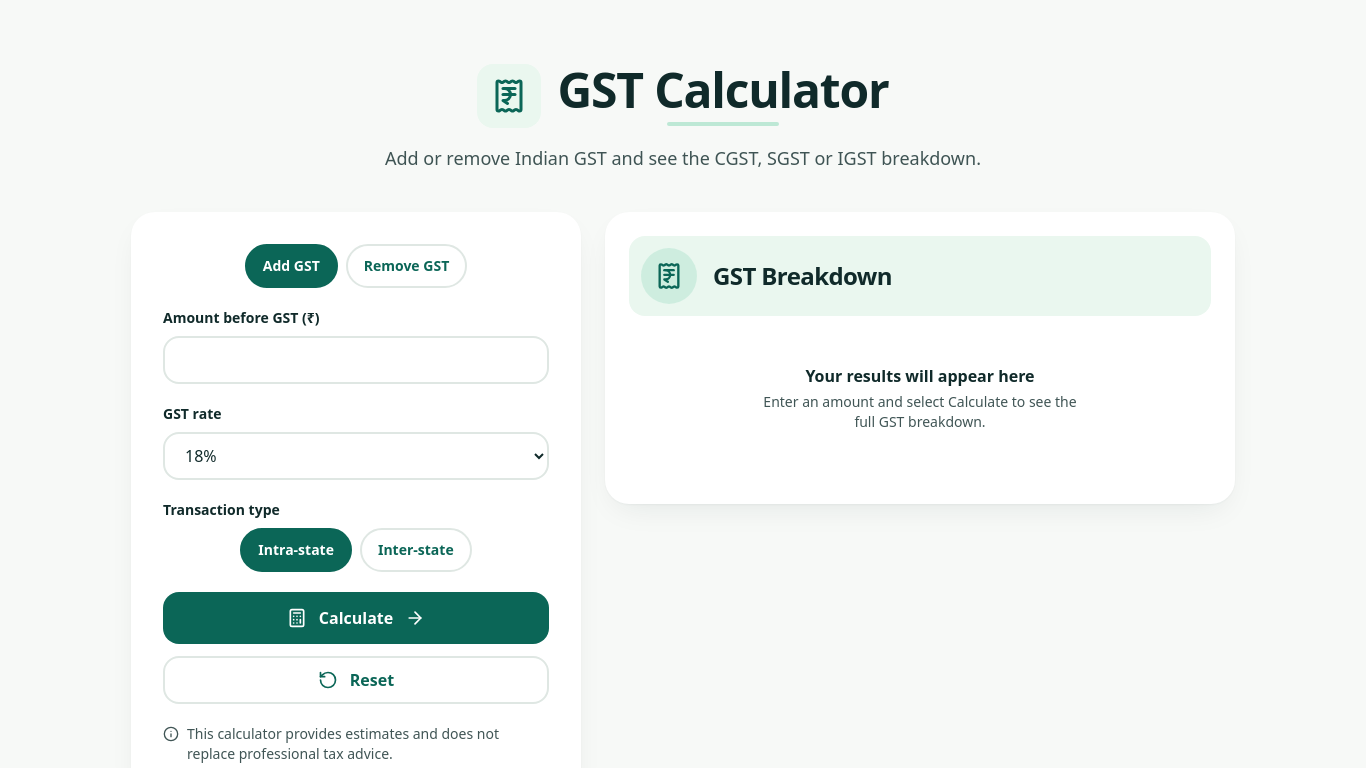
Test case: GST Calculator › shows errors and focuses the amount
The image size is (1366, 768).
Click the button "Calculate".
click(356, 618)  # box 163,592 -> 549,644
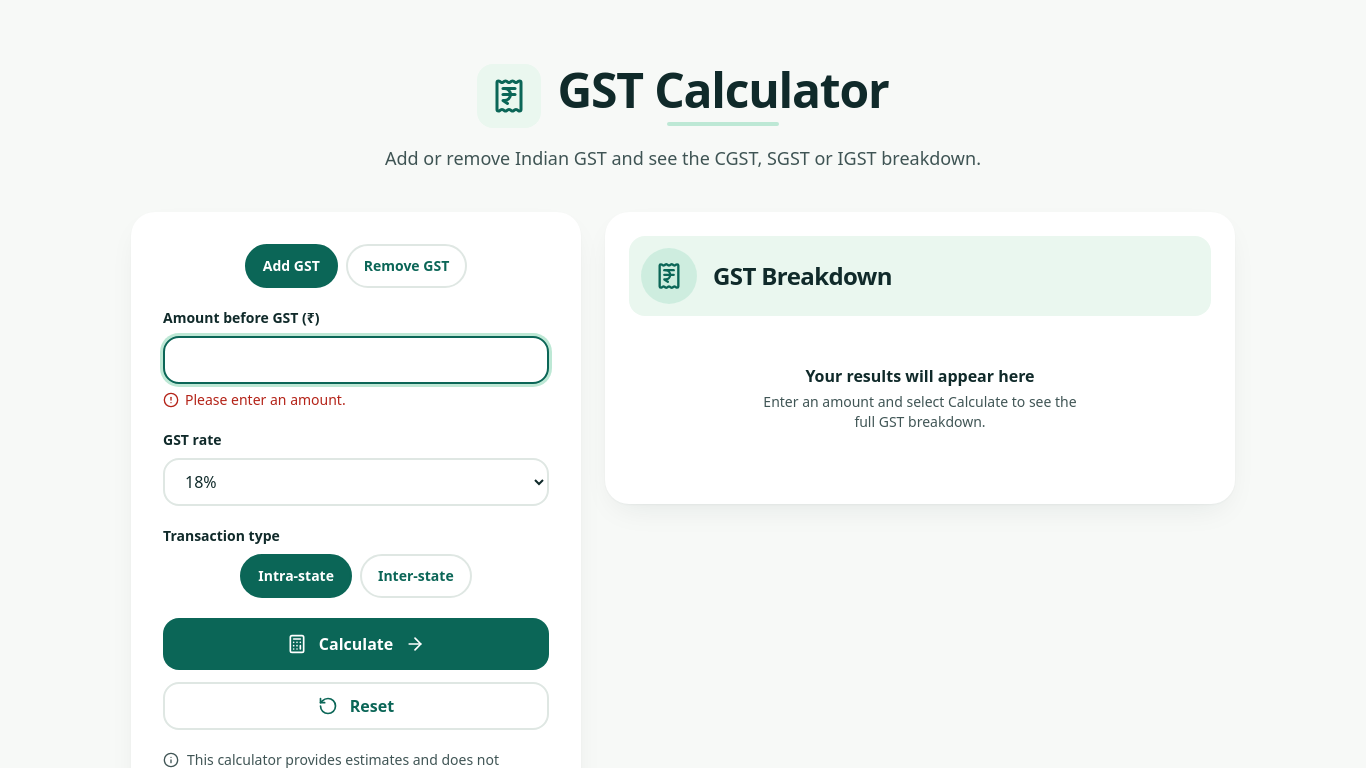
Check: the text "Please enter an amount." is shown, box 163,390 -> 346,409
Type "-5" into the field labelled "Amount before GST (₹)".
click(356, 360); type("-5")  # box 163,336 -> 549,384
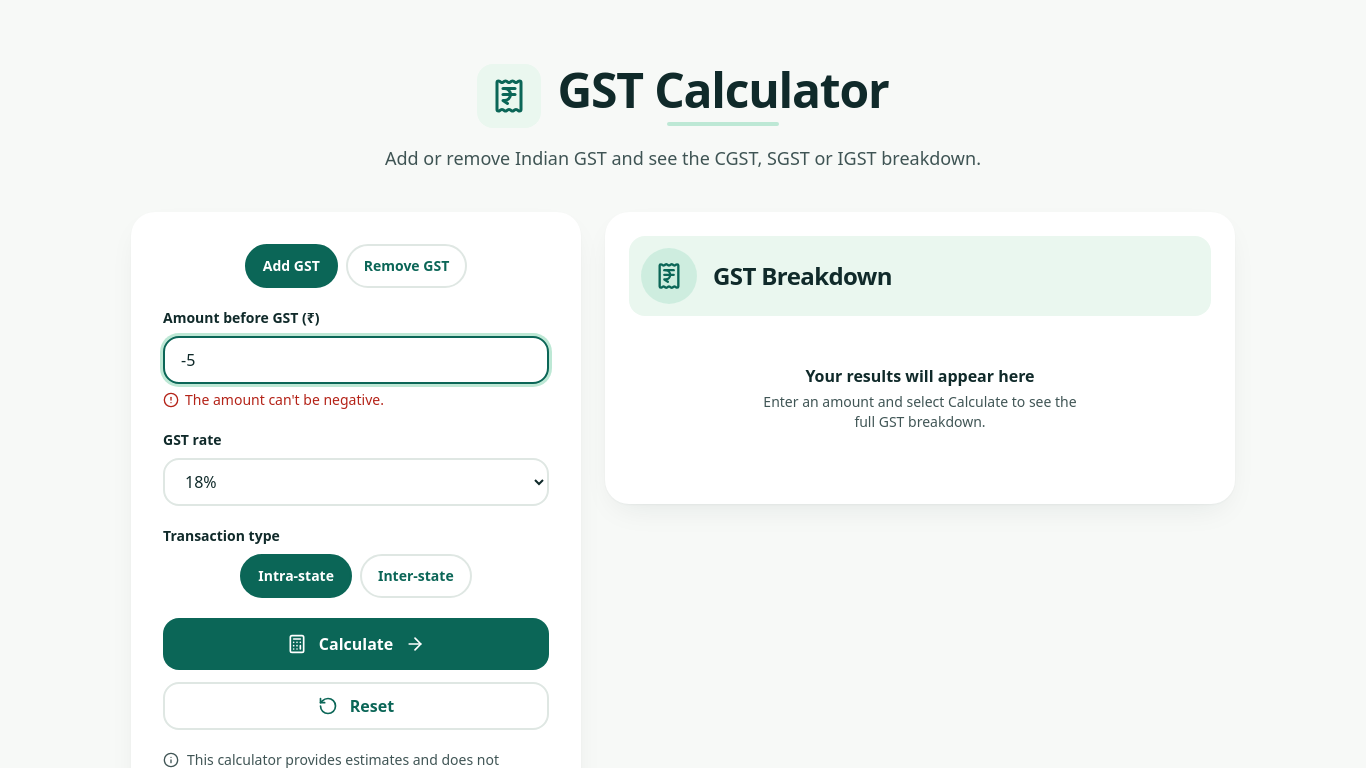
Check: the text "Your results will appear here" is shown, box 805,365 -> 1035,387
Check: the text "The amount can't be negative." is shown, box 163,390 -> 384,409
